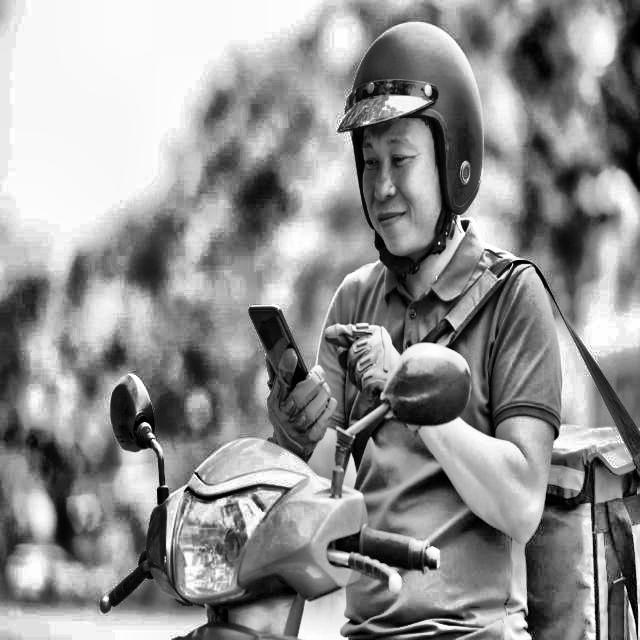Helmet: (332, 12, 488, 283)
